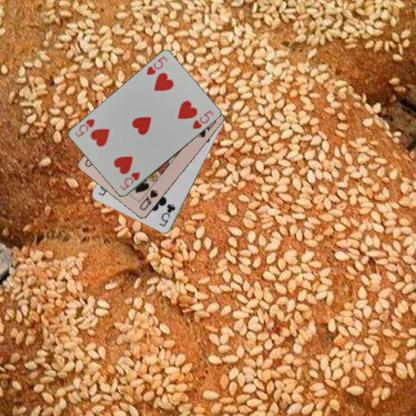5c: (156, 202, 177, 228)
5h: (117, 169, 141, 192), (144, 54, 169, 76)
Qs: (137, 187, 159, 212)
